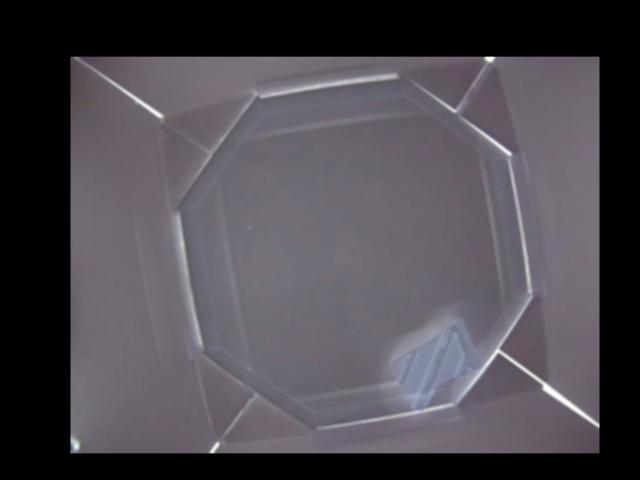China: (396, 319, 482, 412)
